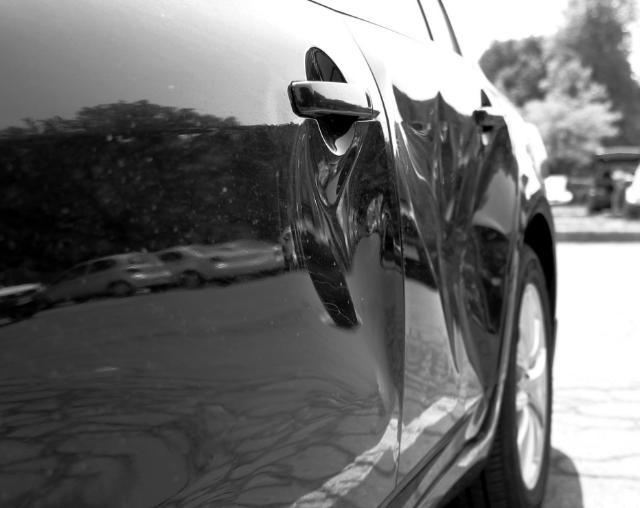Door: (390, 81, 505, 425), (319, 125, 406, 469)
